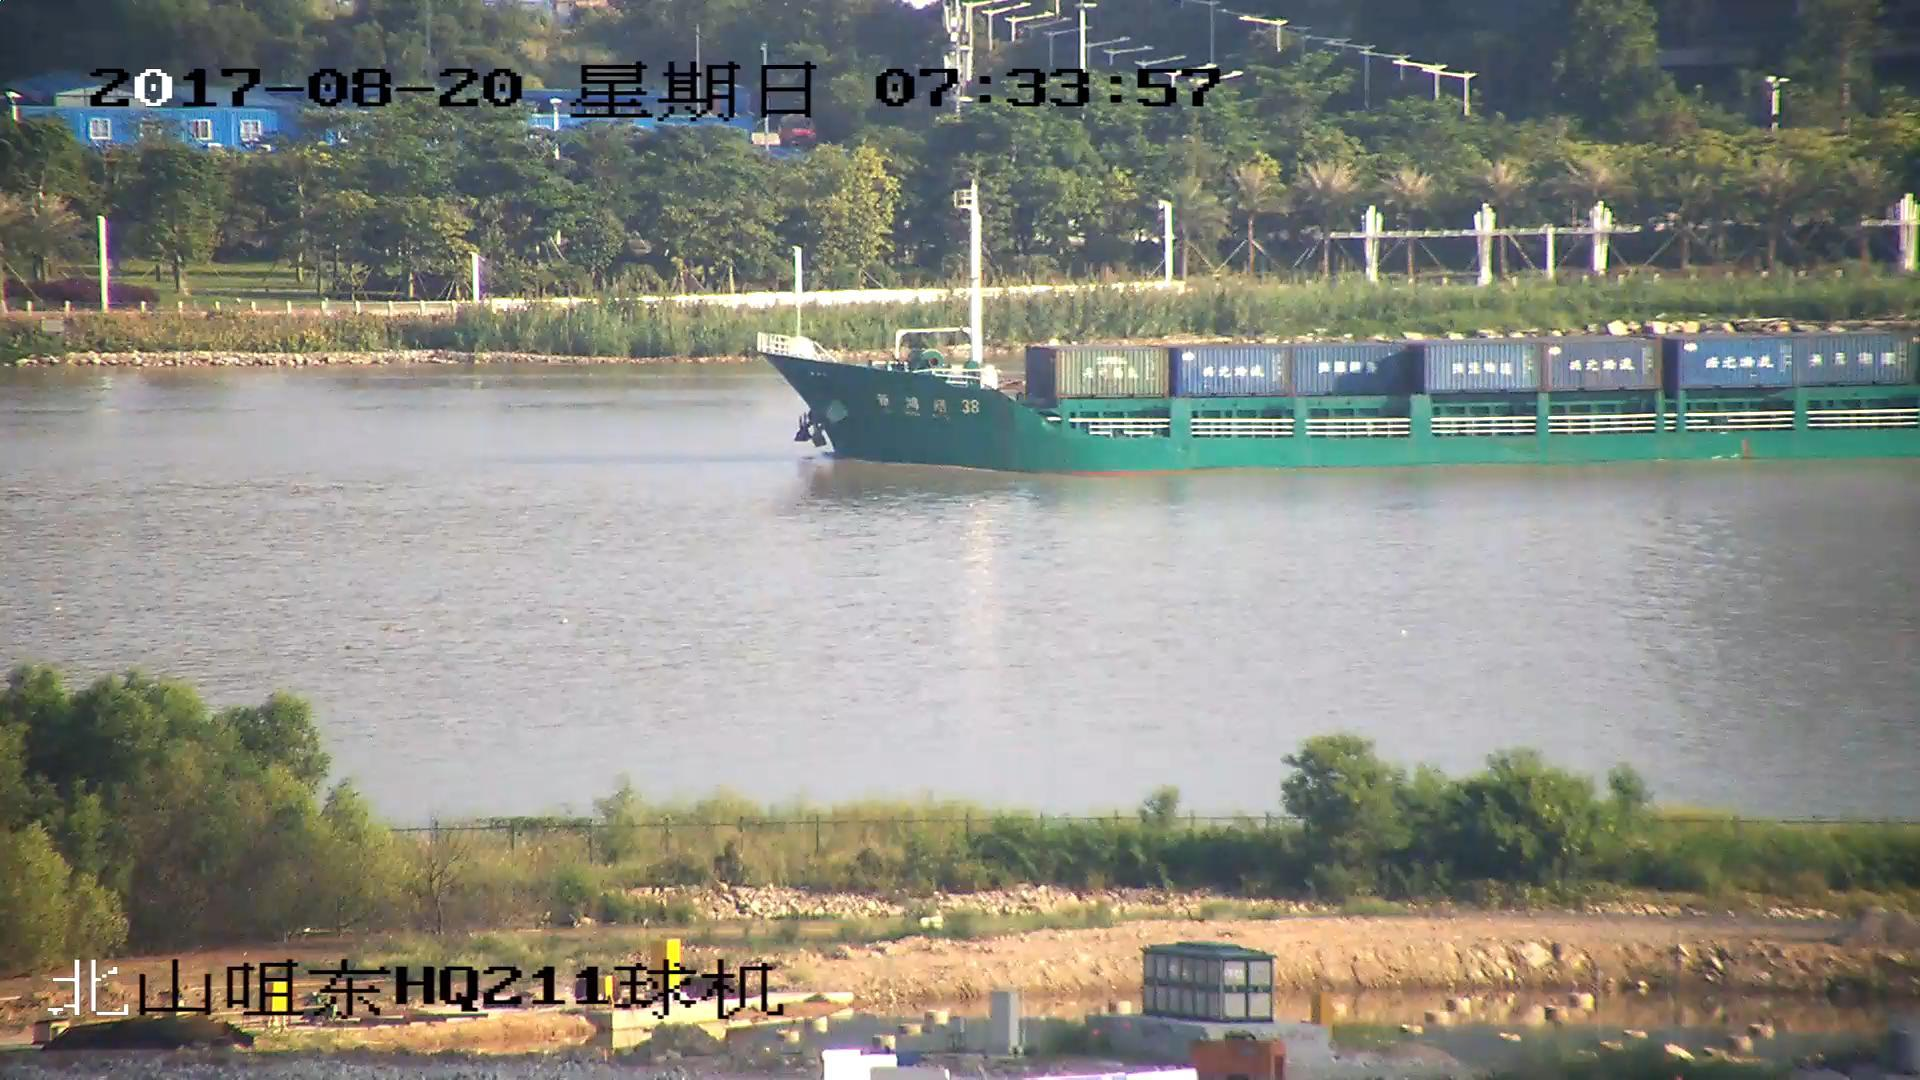Ship: (758, 185, 1920, 476)
